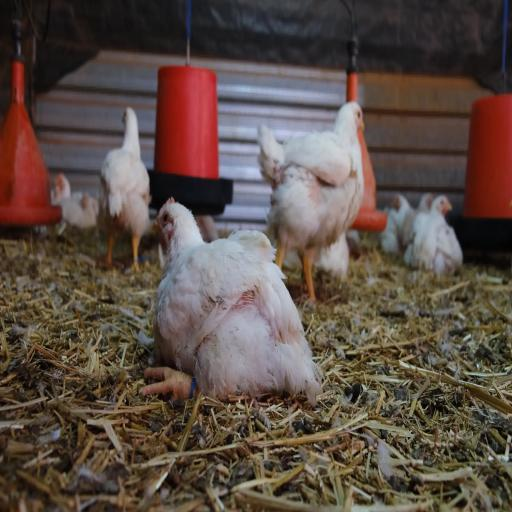healthy: (144, 186, 186, 251)
